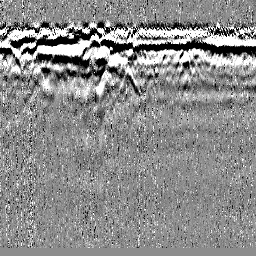cavity: (119, 65, 138, 94)
